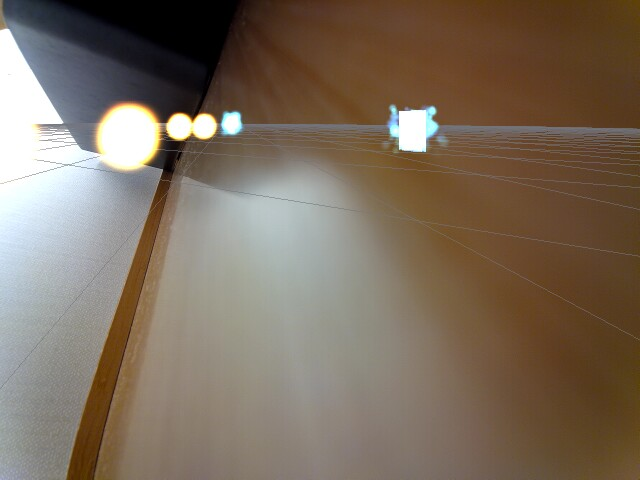firebig: (86, 98, 161, 179)
